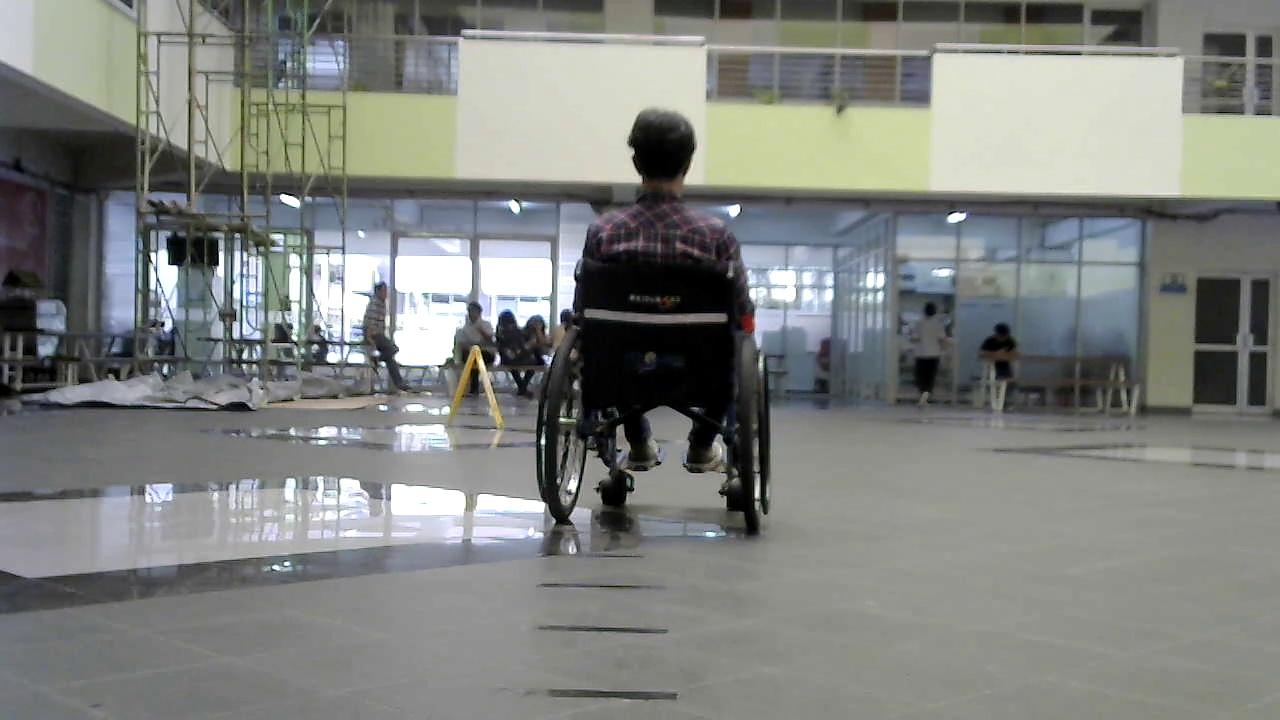person: (534, 106, 764, 528), (361, 275, 407, 395), (448, 300, 500, 402), (905, 303, 949, 407), (979, 321, 1018, 415)
wheelchair: (520, 231, 792, 545)
